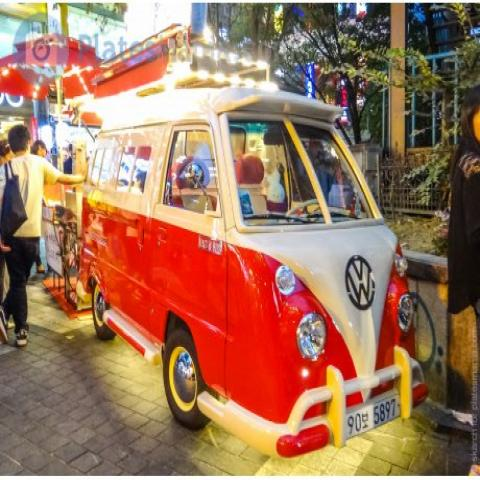LP: (337, 385, 419, 447)
